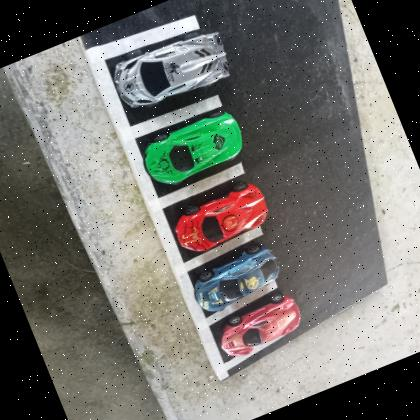Car: (109, 23, 236, 116), (134, 106, 252, 194), (170, 180, 275, 258), (186, 241, 288, 316), (211, 290, 307, 363)
